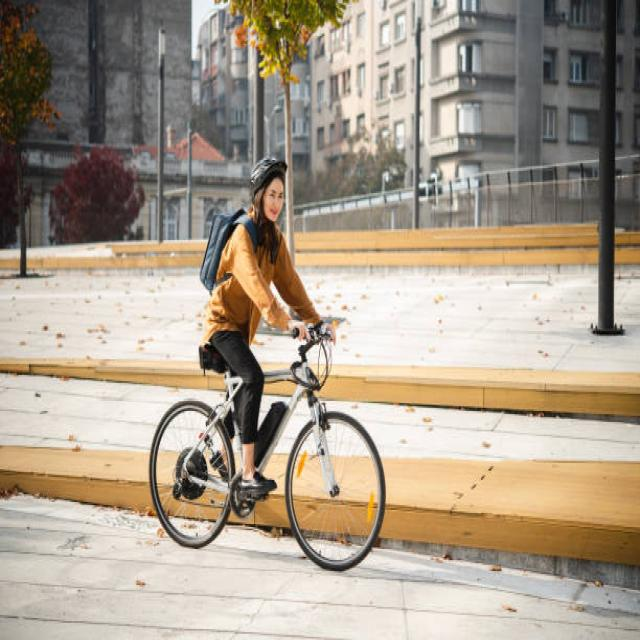bicycle: (150, 158, 385, 570)
